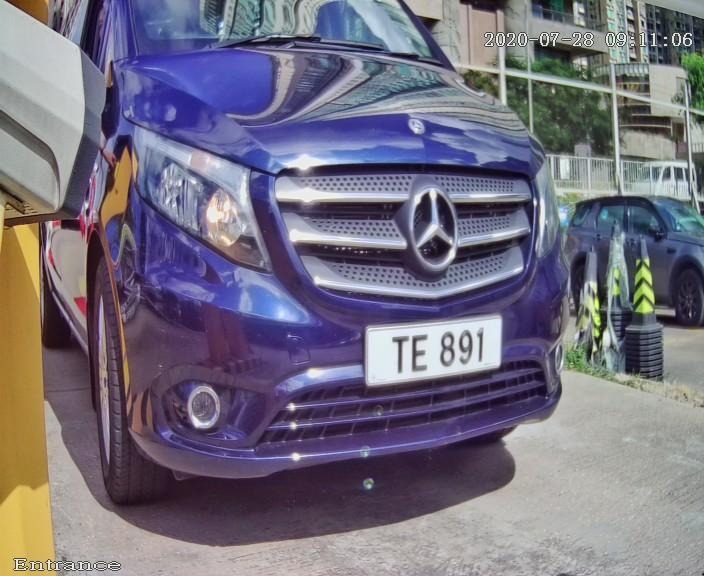privatecar: (1, 1, 670, 553)
